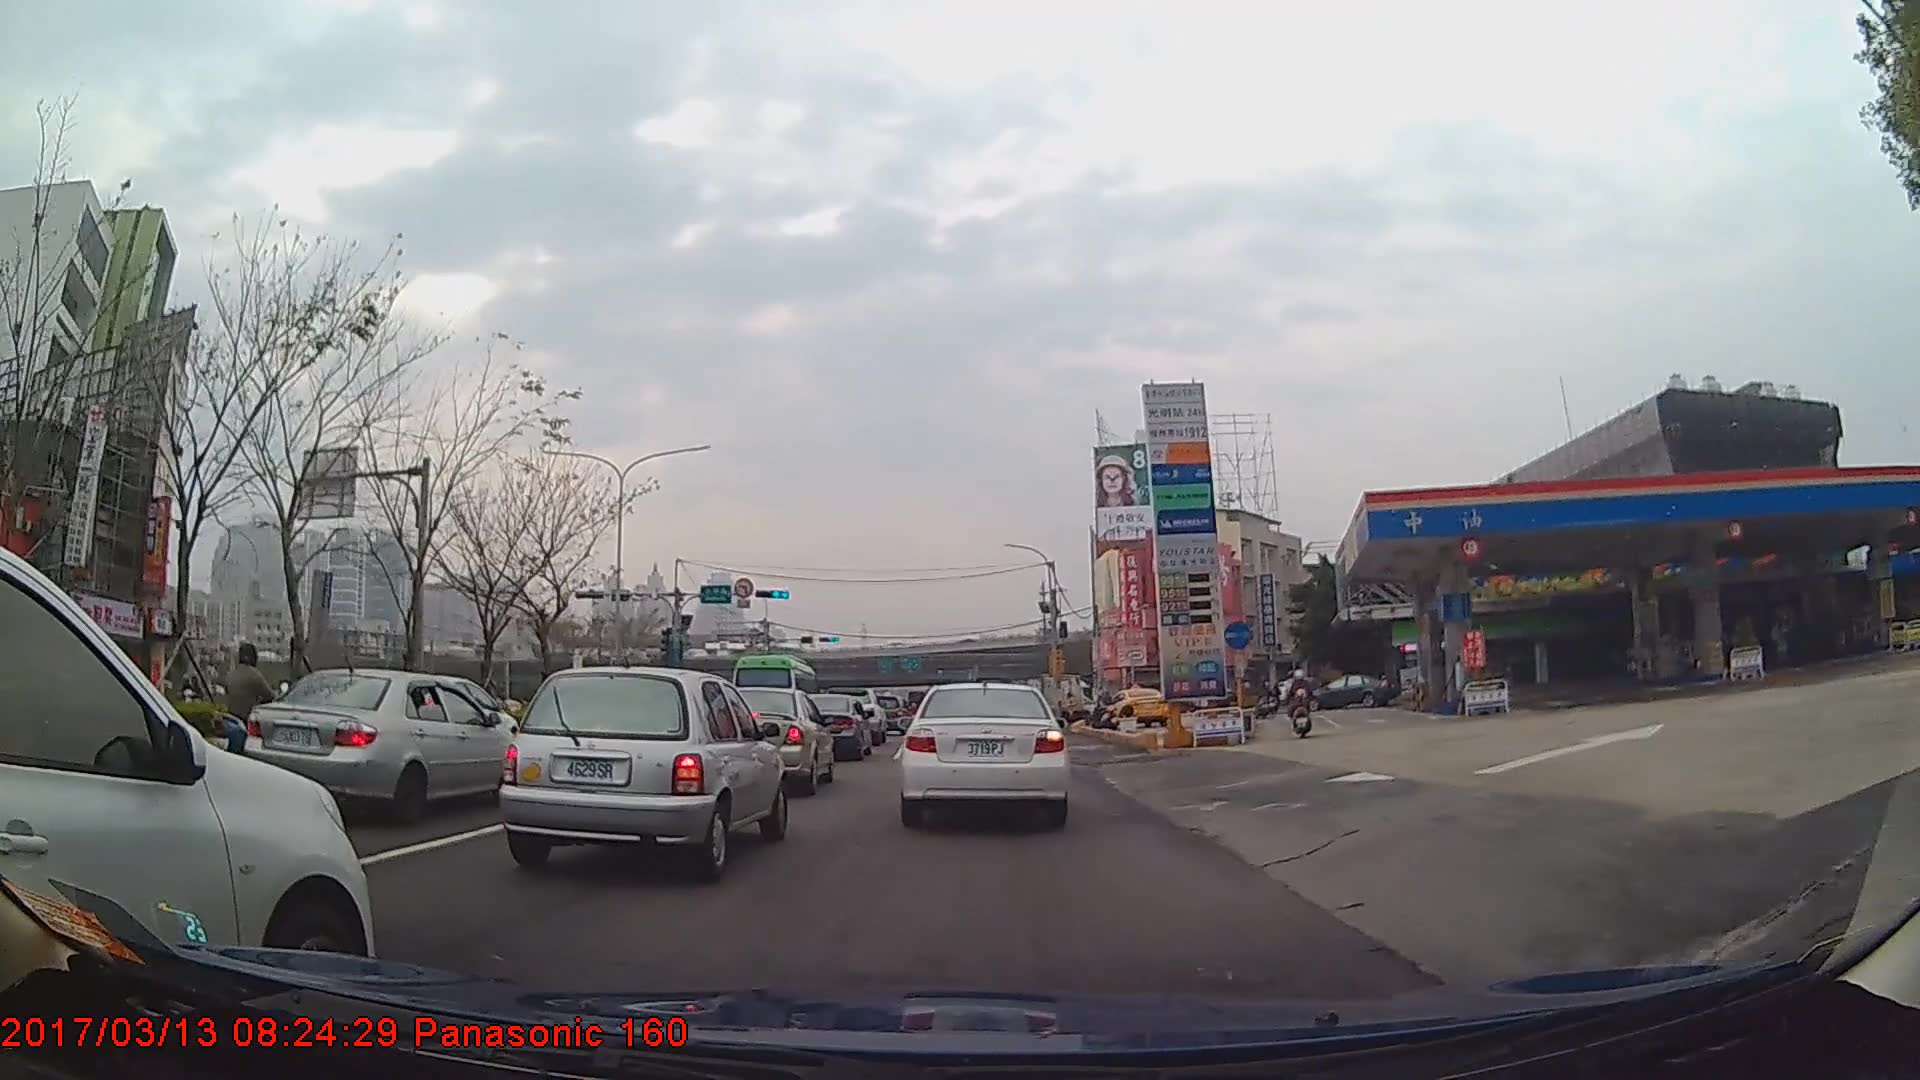rider: (212, 642, 291, 781), (1287, 671, 1314, 737), (1283, 669, 1306, 727)
vehicle: (0, 544, 373, 1010), (495, 664, 787, 879), (242, 670, 521, 820), (898, 678, 1070, 828), (703, 685, 835, 799), (729, 653, 822, 727), (792, 693, 873, 760), (1009, 683, 1098, 735), (1300, 672, 1397, 710), (1110, 685, 1168, 725)
